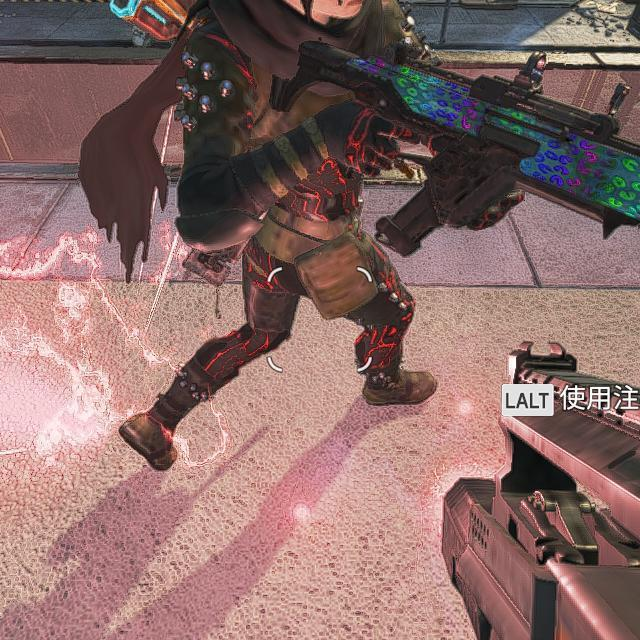avatar: (174, 0, 440, 409)
